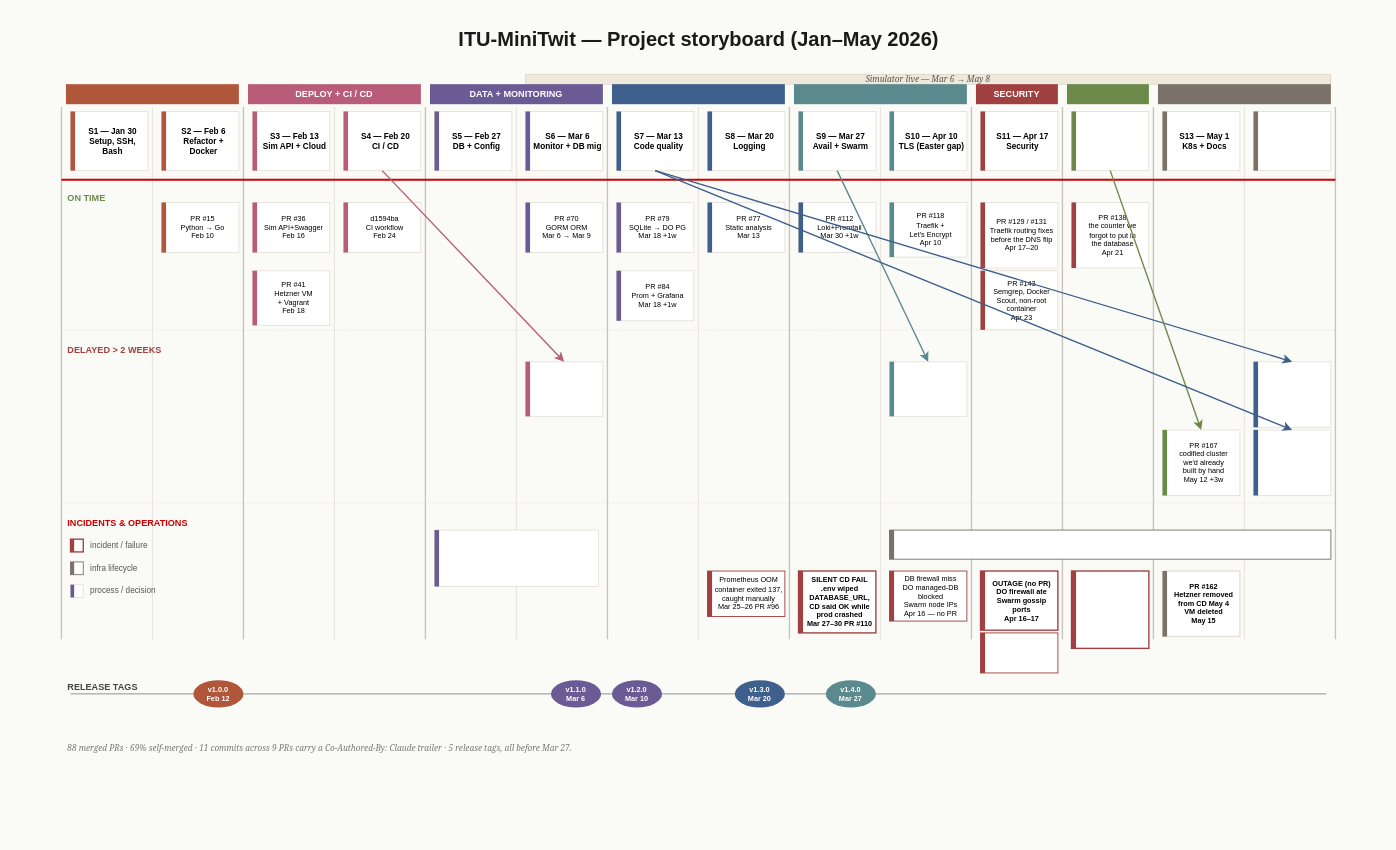
The diagram is 1396 pixels wide and 850 high, and some of its shapes have lost their labels. The shapes that lost their labels are listed below. From the top down, each one's box as (x1, y1, x2, y2) in pixels, then its label:
(66, 84, 238, 104): BOOTSTRAP + REFACTOR
(612, 84, 784, 104): QUALITY + LOGGING
(794, 84, 966, 104): SCALE + TLS
(1067, 84, 1148, 104): IaC
(1158, 84, 1330, 104): WRAP-UP
(1071, 111, 1149, 171): S12 — Apr 24 IaC
(1253, 111, 1331, 171): S14 — May 8 Exam prep
(525, 361, 603, 416): PR #65 — CD pipeline ghcr.io + SSH deploy Mar 6 (S4 topic, +2w)
(889, 361, 967, 416): PR #120 — 3-node Swarm Apr 10/14 (S9 topic) +2w (Easter)
(1253, 361, 1331, 427): PR #146 lint drifted — Go 1.25 forced the fix Apr 24 +6w
(1253, 429, 1331, 495): PR #168 browser tests the week before submission May 16 +9w
(434, 529, 598, 586): Storage debate SQLite volume vs external DB on Discord Mar 2–8
(889, 529, 1331, 559): Hetzner + DO Swarm running in parallel — Apr 10 → May 4
(1070, 570, 1149, 649): Postgres CPU spike + 504s rewrote query as a LATERAL join Apr 29 → May 1 a3dfc3d
(980, 632, 1058, 673): PR #141 GHCR PAT fix silent CD failure Apr 21
